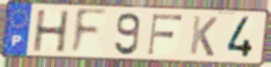4: (225, 15, 256, 60)
9: (114, 12, 142, 56)
F: (69, 7, 109, 58), (146, 13, 185, 57)
H: (32, 9, 72, 54)
K: (188, 14, 220, 59)
